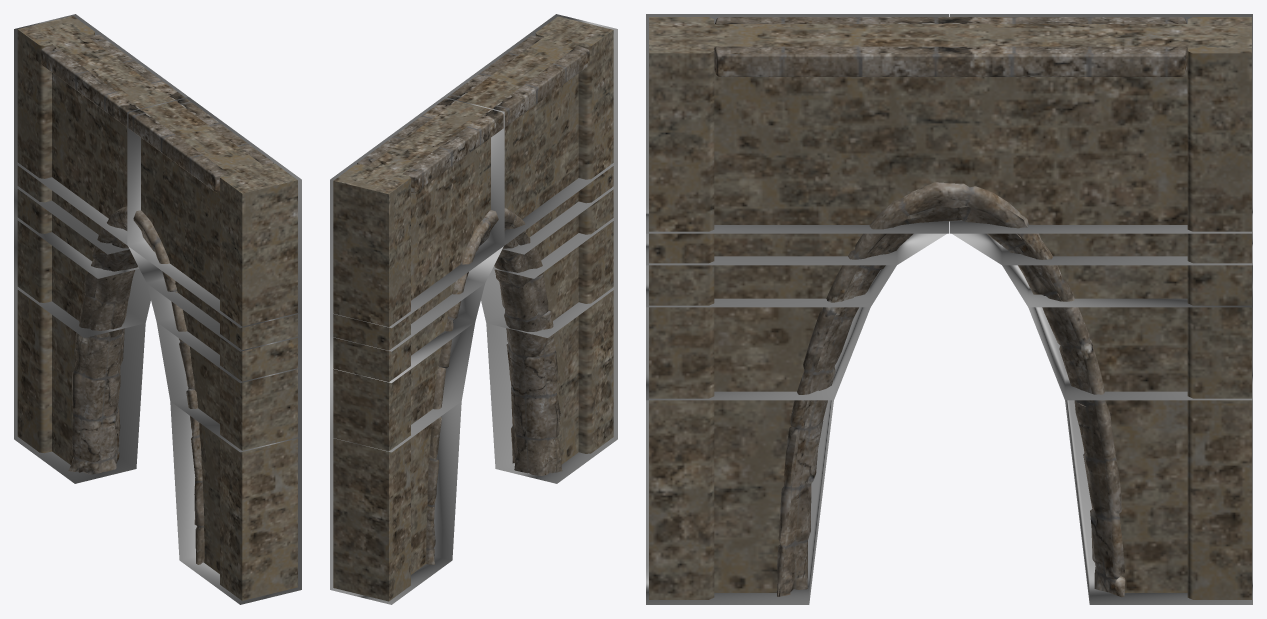
Rendered from SM_Modular_WallArch_01a.gltf.
The picture shows the model from 3 angles, left to right: view 1: azimuth 30°, elevation 25°; view 2: azimuth 150°, elevation 25°; view 3: azimuth 270°, elevation 25°; orthographic projection. The views are drawn at different scales.
Visible parts, largest first — view 1: SM_Modular_WallArch_01a, SM_Modular_WallArch_01a_ConvexHulls; view 2: SM_Modular_WallArch_01a, SM_Modular_WallArch_01a_ConvexHulls; view 3: SM_Modular_WallArch_01a, SM_Modular_WallArch_01a_ConvexHulls.
Boxes of the visible parts, left/top/right/bottom form: SM_Modular_WallArch_01a: left=17, top=16, right=297, bottom=600; SM_Modular_WallArch_01a_ConvexHulls: left=14, top=14, right=301, bottom=604; SM_Modular_WallArch_01a: left=333, top=16, right=613, bottom=601; SM_Modular_WallArch_01a_ConvexHulls: left=330, top=14, right=617, bottom=604; SM_Modular_WallArch_01a: left=649, top=17, right=1251, bottom=599; SM_Modular_WallArch_01a_ConvexHulls: left=646, top=14, right=1252, bottom=604.
Bounding box in the file's own units: 1.11 × 7.06 × 7.05.
3 materials, 2 textured.
